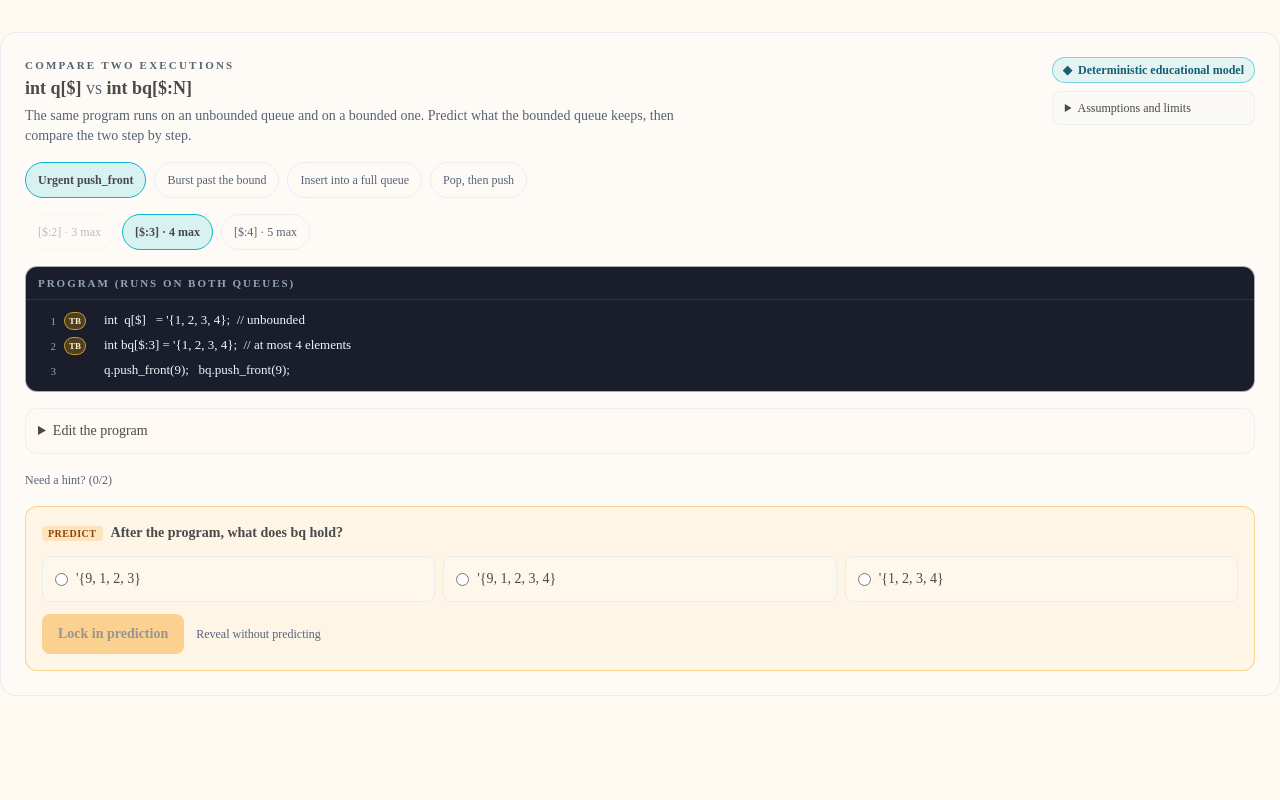
Test: QueueOperationLab (q[$] vs q[$:N]) › §7.10.5: push_back past the bound drops the new elements and counts each warning
Click the radio button labelled "Burst past the bound" at coordinates (217, 180), box [154,162,280,198]
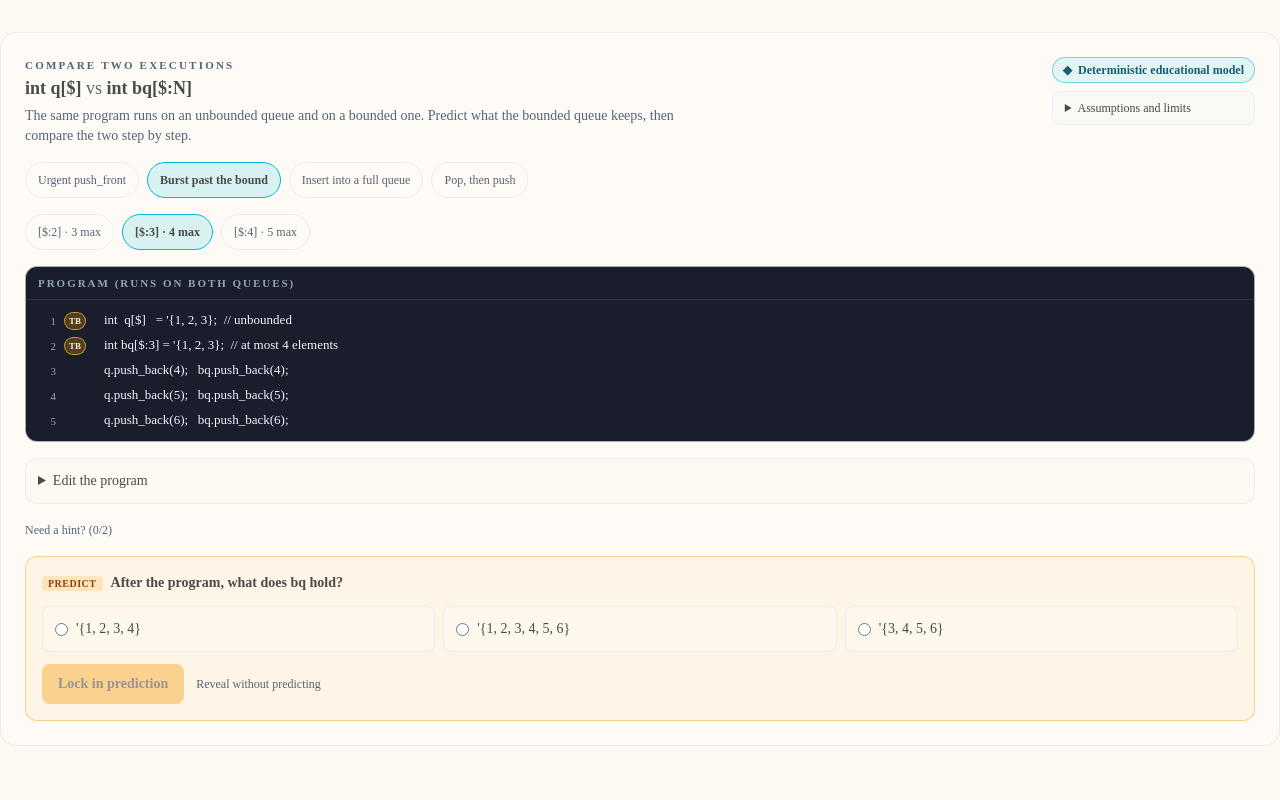
Click the radio button labelled "'{1, 2, 3, 4}" at coordinates (62, 630), box [55,623,68,636]
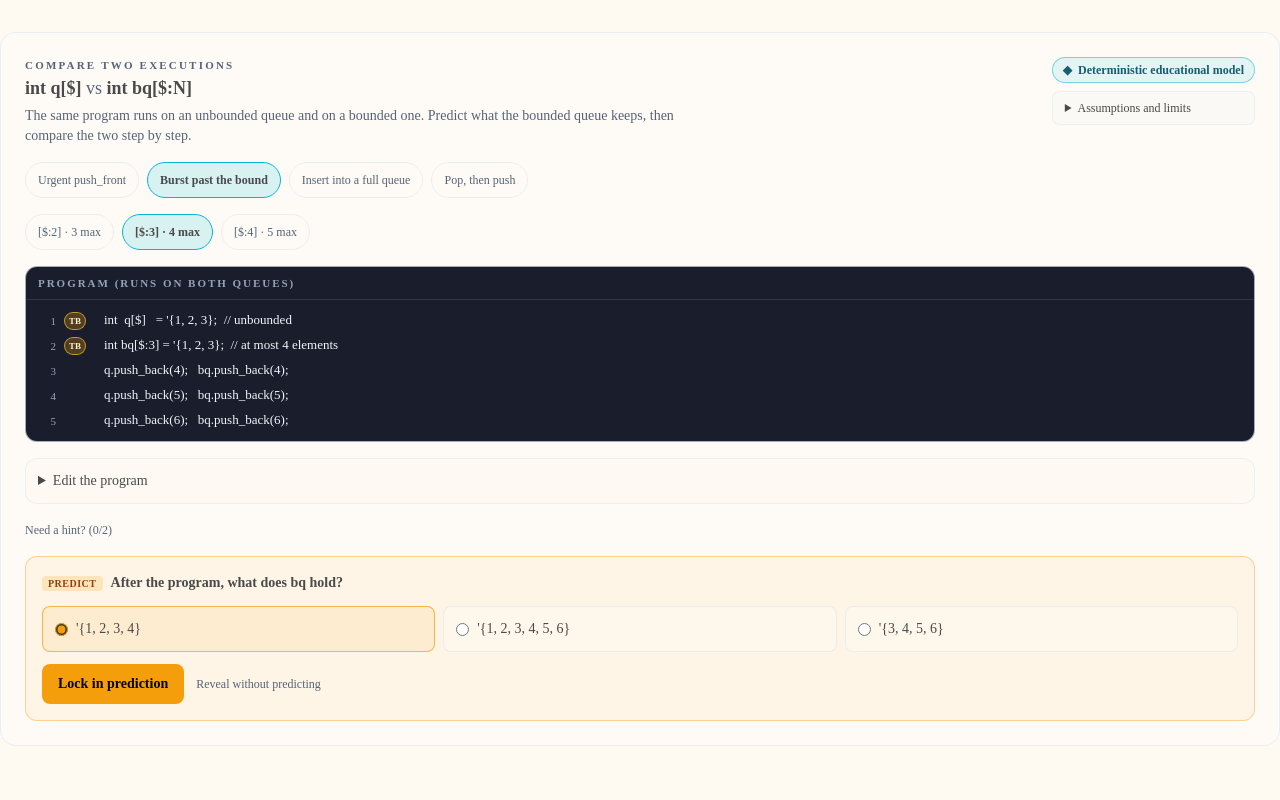
Click the button "Lock in prediction" at coordinates (113, 684), box [42,664,184,704]
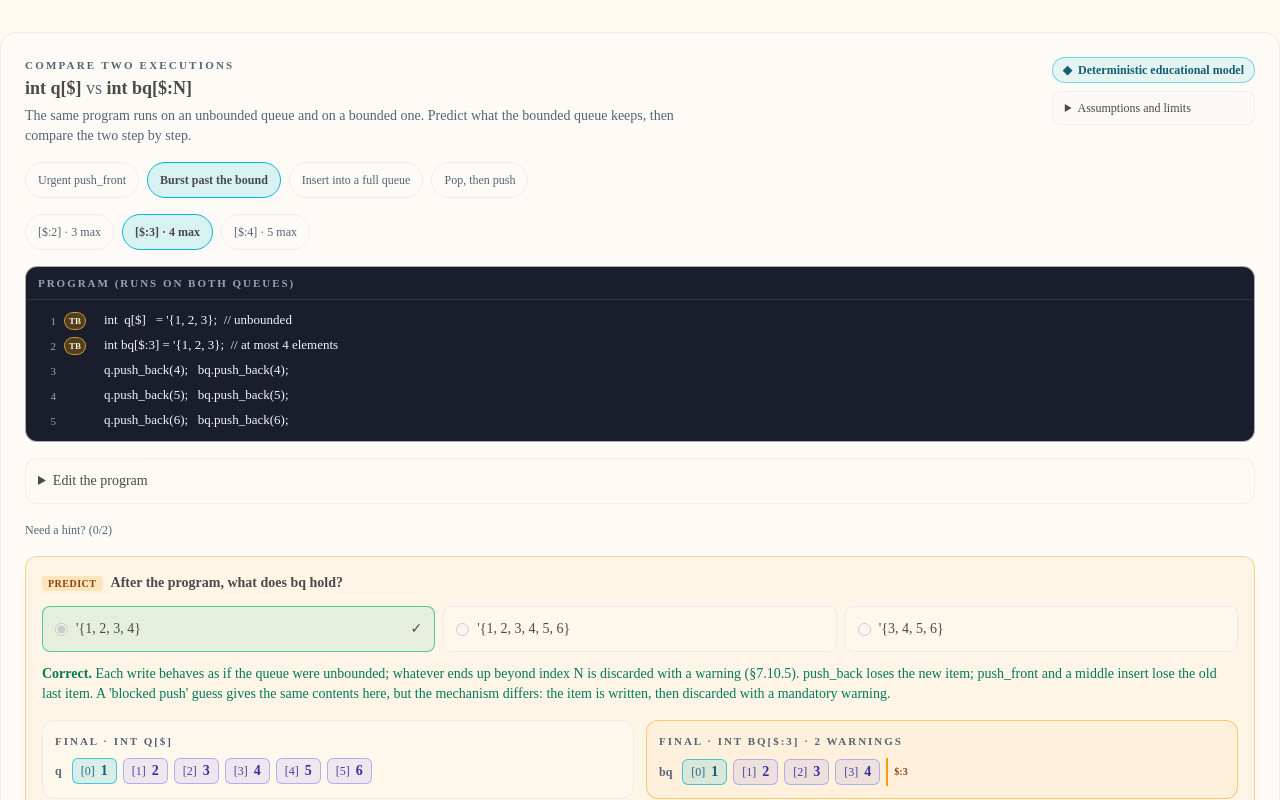
Check: the text "Correct." is shown, box [42,666,95,681]
Check: the text "Final · int bq[$:3] · 2 warnings" is shown, box [659,735,903,747]
